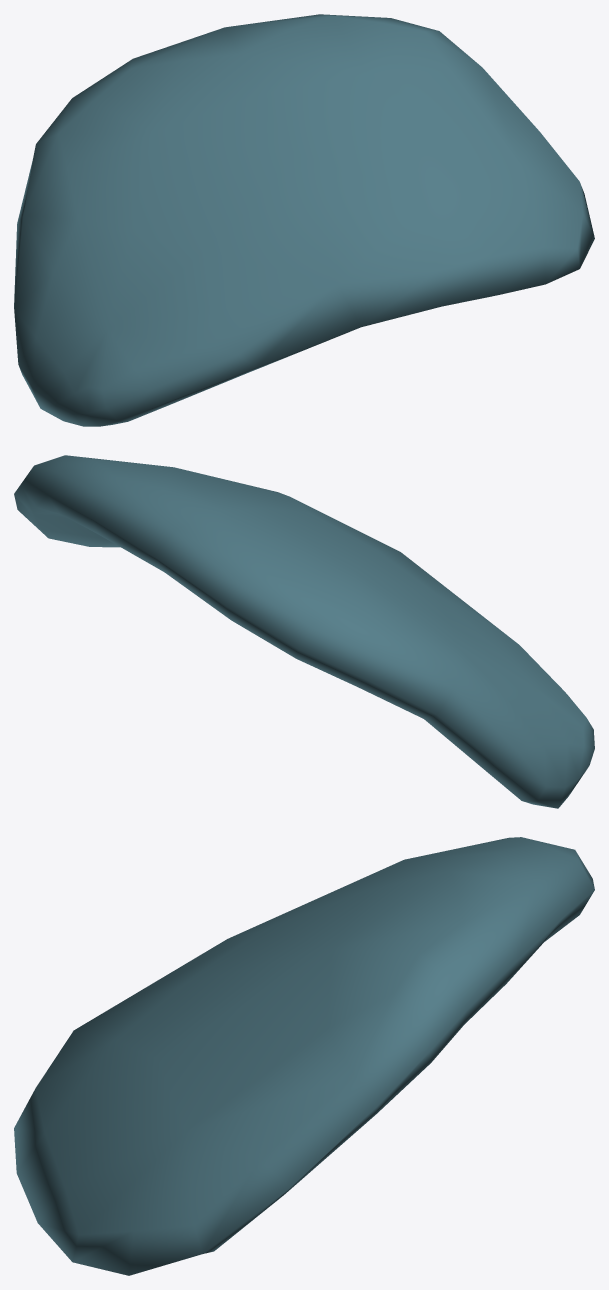
The model's file is Extensor_digitorum_longus_&_brevis_on_2d_middle_phalanx.r_Gener.glb.
3 views of the same model, one above another, from view 1: azimuth 30°, elevation 25°; view 2: azimuth 150°, elevation 25°; view 3: azimuth 270°, elevation 25° (orthographic). The views are drawn at different scales.
Parts seen in each view (by area): view 1: Extensor_digitorum_longus_&_brevis_on_2d_middle_phalanx.r_Ge; view 2: Extensor_digitorum_longus_&_brevis_on_2d_middle_phalanx.r_Ge; view 3: Extensor_digitorum_longus_&_brevis_on_2d_middle_phalanx.r_Ge.
Part boxes in pixels (x1,y1,x2,y2): Extensor_digitorum_longus_&_brevis_on_2d_middle_phalanx.r_Ge: (14, 14, 594, 426); Extensor_digitorum_longus_&_brevis_on_2d_middle_phalanx.r_Ge: (14, 455, 594, 808); Extensor_digitorum_longus_&_brevis_on_2d_middle_phalanx.r_Ge: (14, 837, 594, 1275).
Size of the model in its own units: 0.00513 by 0.00252 by 0.00345.
